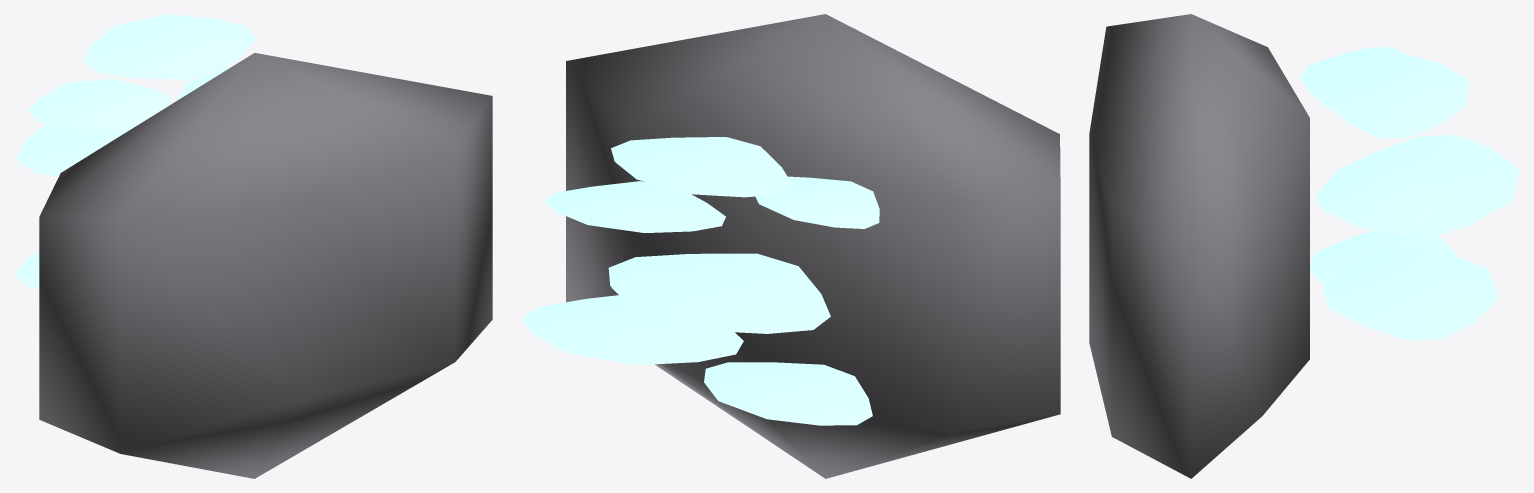
The model's file is cave_bracket_fungi.glb.
3 views of the same model, side by side, from view 1: azimuth 30°, elevation 25°; view 2: azimuth 150°, elevation 25°; view 3: azimuth 270°, elevation 25° (orthographic). The views are drawn at different scales.
Visible parts, largest first — view 1: Flora_Bracket_Fungi; view 2: Flora_Bracket_Fungi; view 3: Flora_Bracket_Fungi.
Part boxes in pixels (left/top/right/bottom): Flora_Bracket_Fungi: left=14, top=14, right=492, bottom=478; Flora_Bracket_Fungi: left=521, top=14, right=1060, bottom=478; Flora_Bracket_Fungi: left=1089, top=14, right=1519, bottom=478.
Bounding box in the file's own units: 0.7794 × 0.7 × 0.6081.
